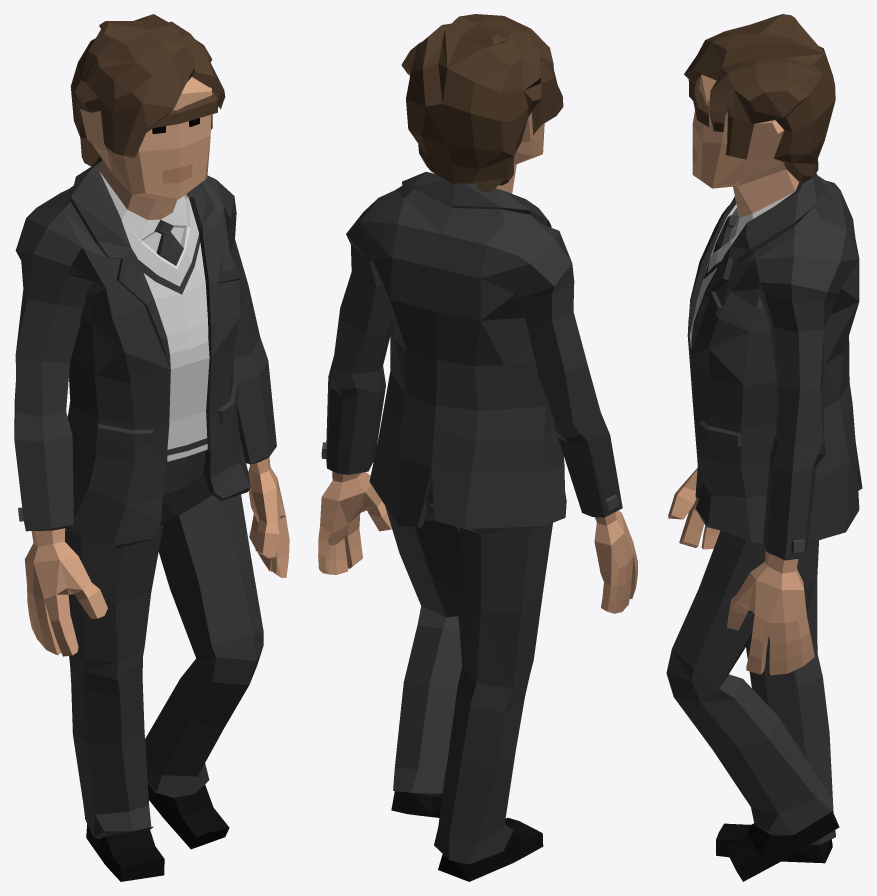
The model's file is human-characters-animations_baking_test_v01.glb.
3 renders of one model, left to right at view 1: azimuth 30°, elevation 25°; view 2: azimuth 150°, elevation 25°; view 3: azimuth 270°, elevation 25°, orthographic.
Visible parts, largest first — view 1: Character_1; view 2: Character_1; view 3: Character_1.
Part boxes in pixels (box(x1,y1,x2,y2)): Character_1: box(14, 14, 289, 881); Character_1: box(318, 14, 637, 881); Character_1: box(666, 14, 862, 881).
Size of the model in its own units: 0.641 by 1.84 by 0.3937.
1 material, 1 textured.
